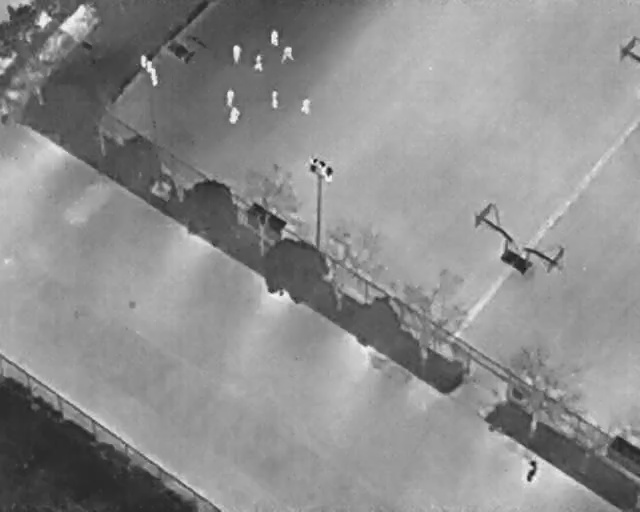Bicycle: (522, 457, 541, 485)
Person: (280, 44, 297, 66), (226, 105, 243, 125), (300, 97, 312, 115), (231, 45, 243, 63), (254, 53, 264, 72), (270, 89, 279, 110), (270, 28, 279, 45), (226, 88, 234, 107)
